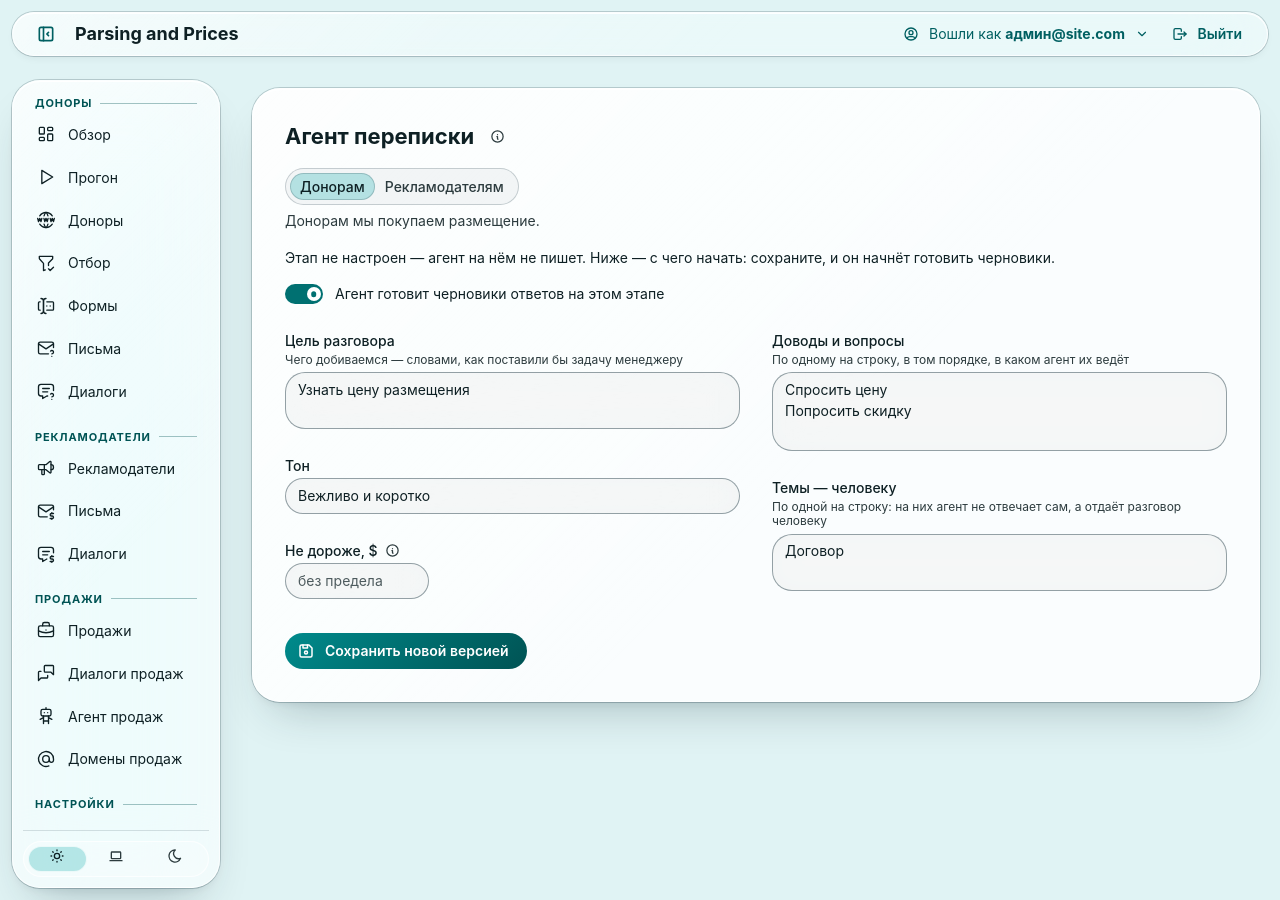
Test case: агент переписки › отказ — под полем и до нажатия
Step 1. Clear the text box labelled "Цель разговора" → (512, 401), box [285,372,740,429]
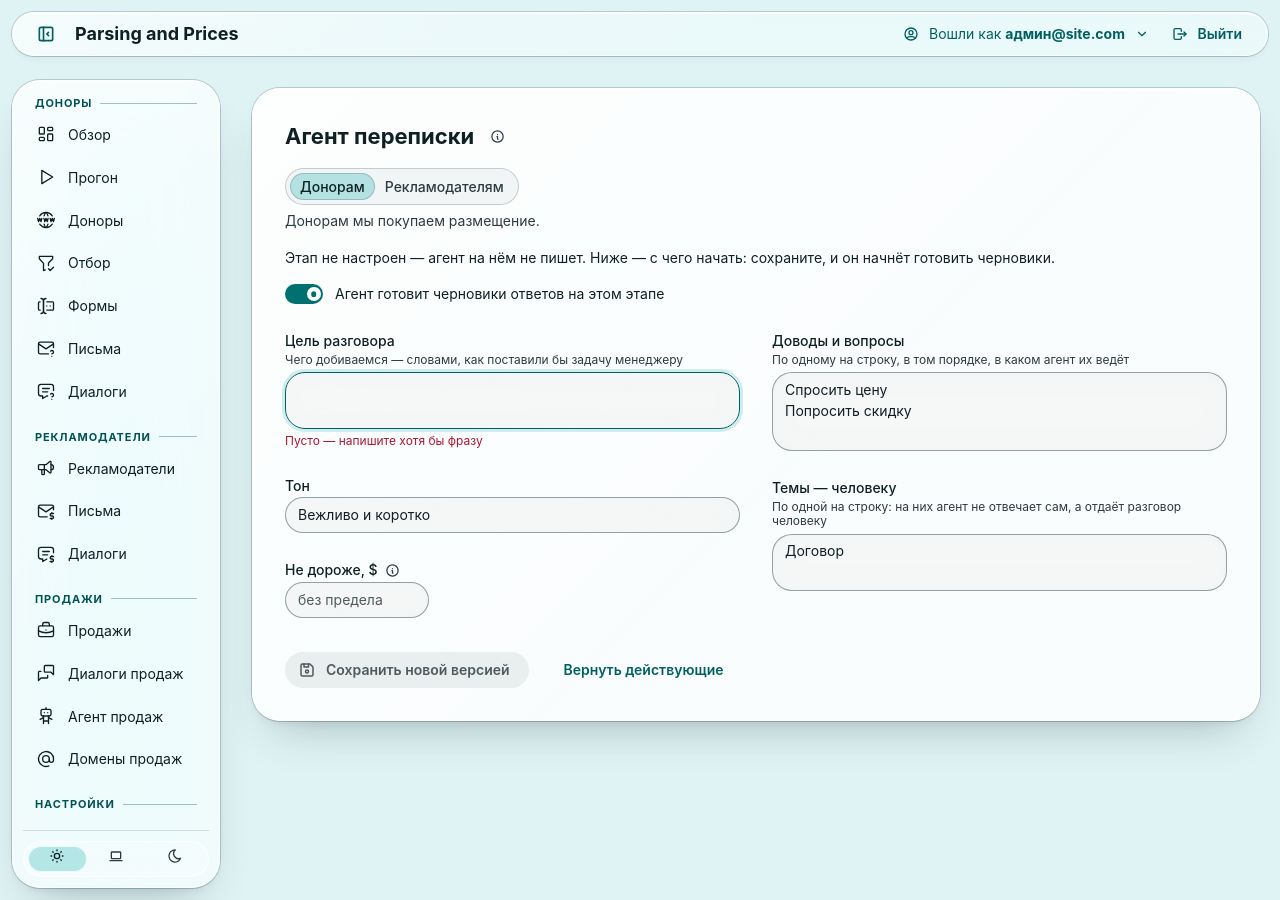
Expected: the text "Пусто — напишите хотя бы фразу" is shown, [285,433,483,448]
Expected: the button "Сохранить новой версией" is disabled, [285,652,529,688]
